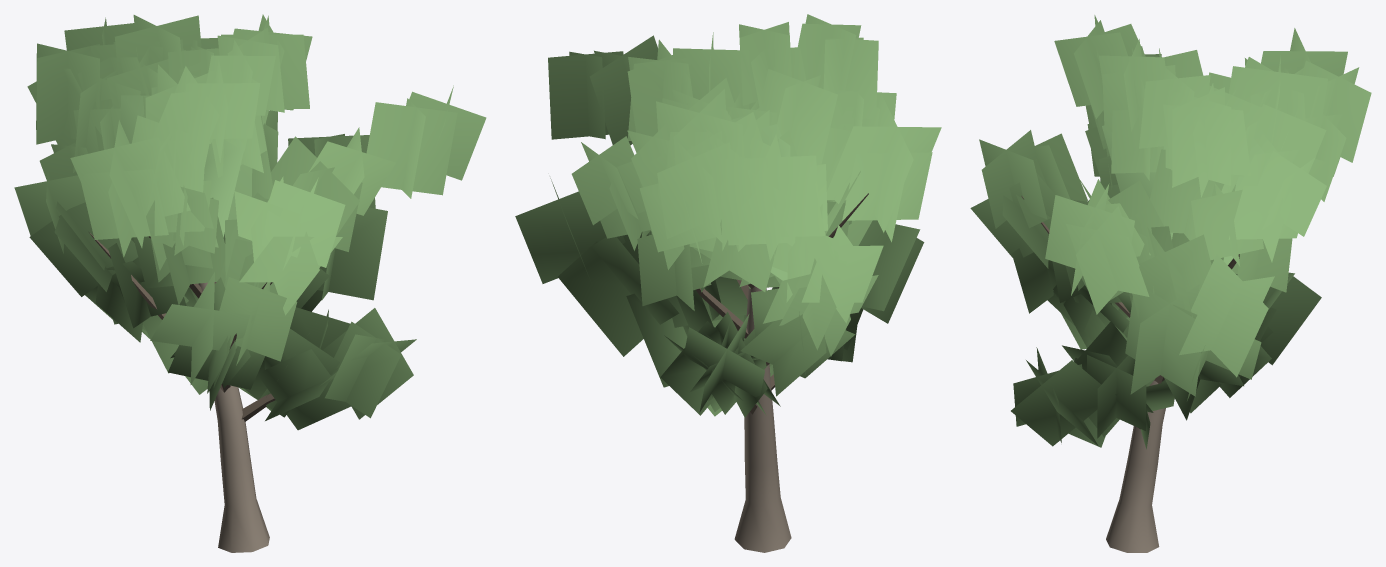
File: tree_oak_b_lod0.glb
3 renders of one model, left to right at view 1: azimuth 30°, elevation 25°; view 2: azimuth 150°, elevation 25°; view 3: azimuth 270°, elevation 25°, orthographic. The views are drawn at different scales.
Parts seen in each view (by area): view 1: tree_oak_b_lod0; view 2: tree_oak_b_lod0; view 3: tree_oak_b_lod0.
Boxes of the visible parts, left/top/right/bottom form: tree_oak_b_lod0: left=14, top=14, right=486, bottom=552; tree_oak_b_lod0: left=515, top=14, right=941, bottom=552; tree_oak_b_lod0: left=970, top=15, right=1371, bottom=552.
Size of the model in its own units: 10.72 by 13.48 by 9.85.
